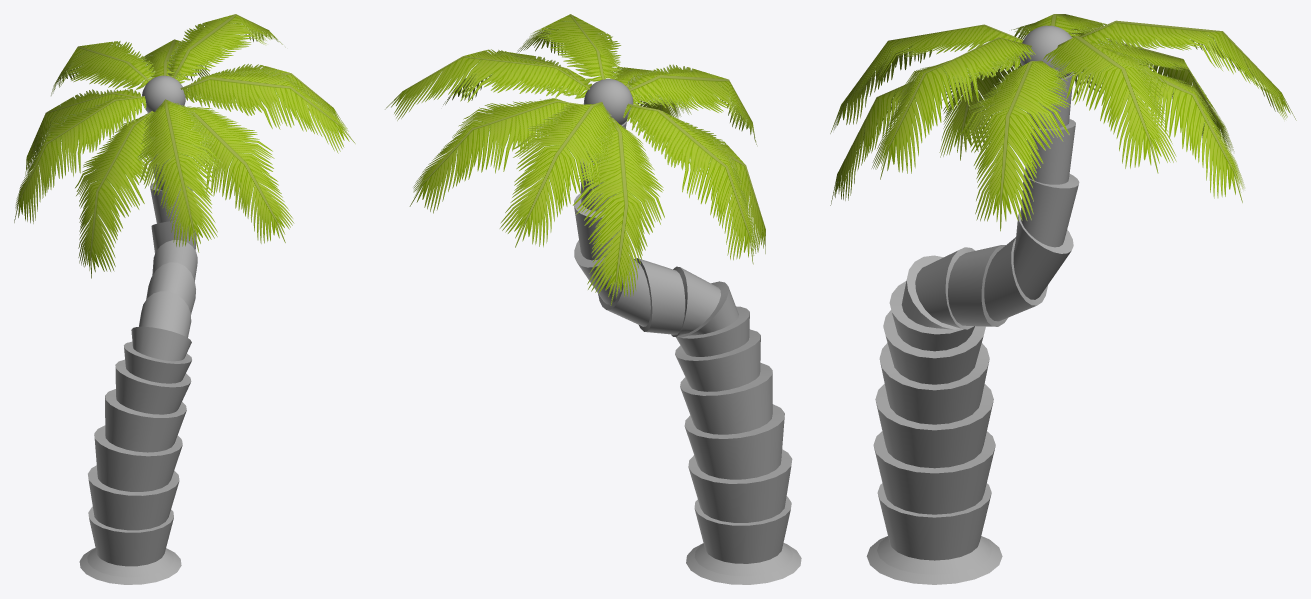
The model's file is envMesh_Islands_Tree_Palm4.FBX.fbx.
The picture shows the model from 3 angles, left to right: view 1: azimuth 30°, elevation 25°; view 2: azimuth 150°, elevation 25°; view 3: azimuth 270°, elevation 25°; orthographic projection. The views are drawn at different scales.
Visible parts, largest first — view 1: Leaf103, pCylinder2, Balm4; view 2: Leaf103, pCylinder2, Balm4; view 3: pCylinder2, Leaf103, Balm4.
Boxes of the visible parts, <box> form: Leaf103: <box>14,14,355,278</box>; pCylinder2: <box>79,105,197,584</box>; Balm4: <box>142,75,185,113</box>; Leaf103: <box>385,14,765,305</box>; pCylinder2: <box>574,121,801,584</box>; Balm4: <box>583,79,633,125</box>; pCylinder2: <box>866,72,1079,584</box>; Leaf103: <box>830,14,1296,231</box>; Balm4: <box>1019,25,1071,78</box>.
Bounding box in the file's own units: 3.52 × 5.08 × 3.57.
2 materials, 1 textured.
